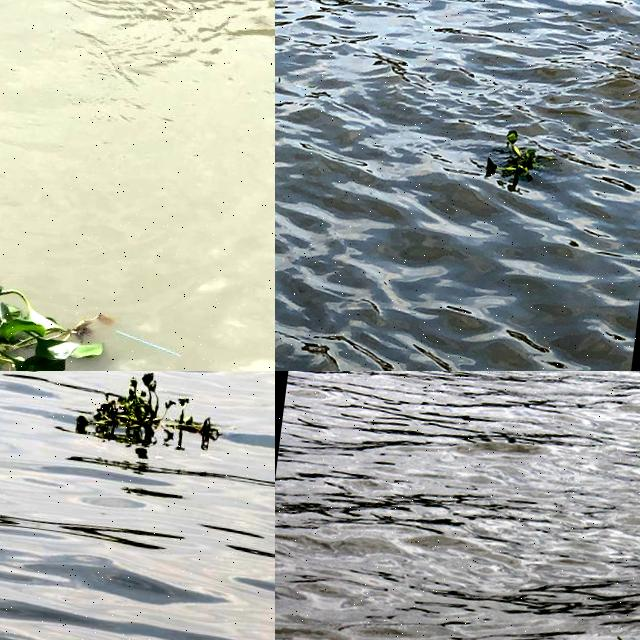water-hyacinth: (72, 372, 204, 446), (1, 287, 116, 370), (469, 125, 559, 196)
